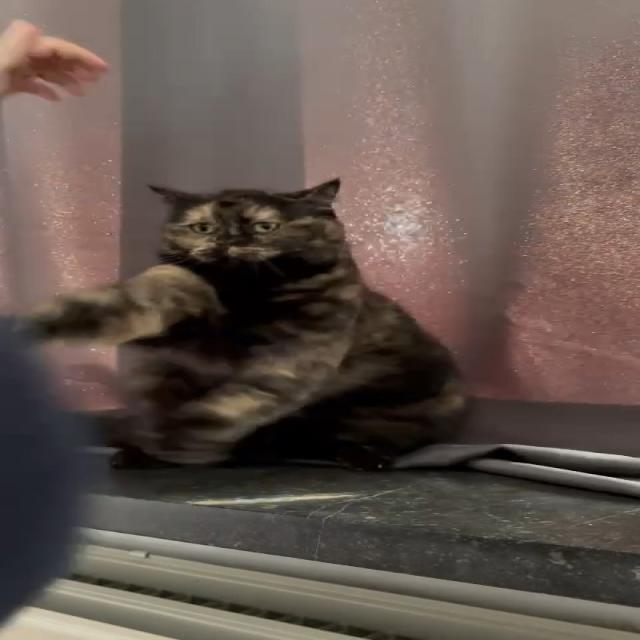authorized: (28, 176, 469, 470)
